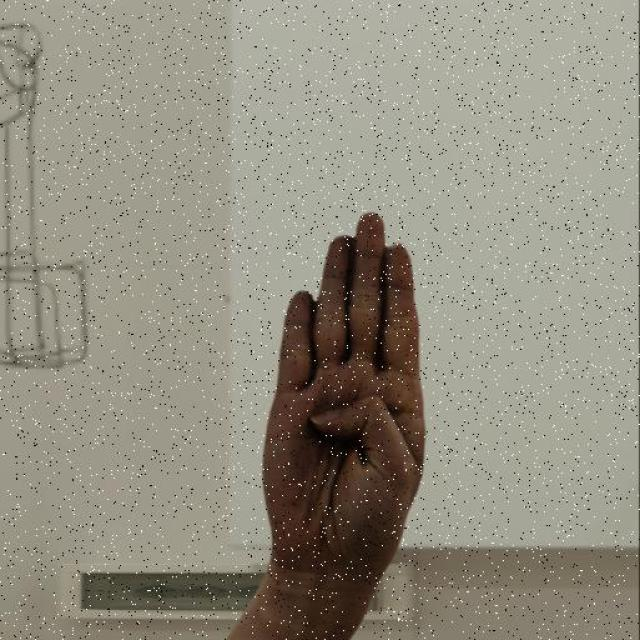B: (260, 203, 429, 622)
